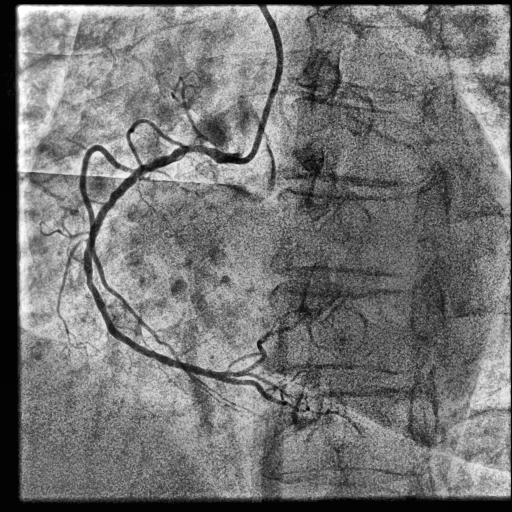pborca: (226, 313, 323, 377)
pda: (225, 378, 362, 434)
rca: (84, 145, 240, 382)
